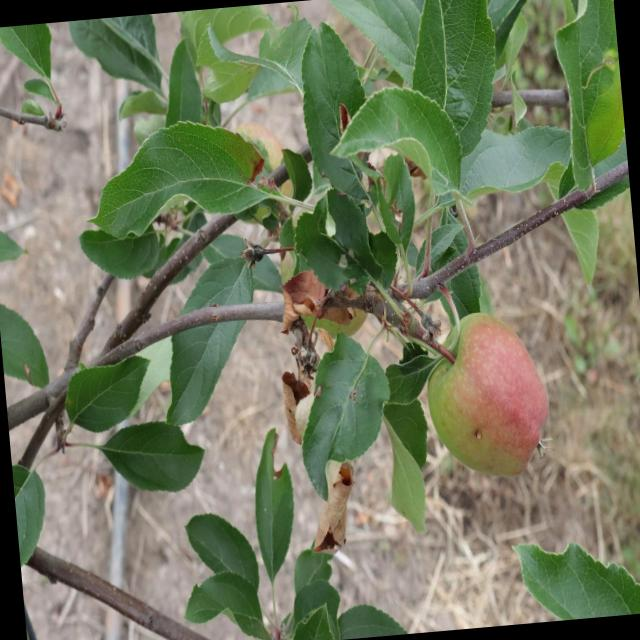-FireBlight-: (276, 264, 376, 389)
